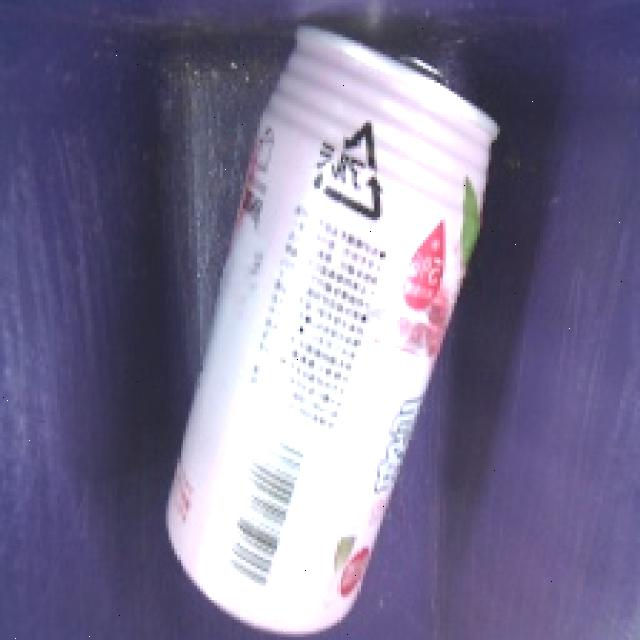metal: (152, 17, 517, 640)
